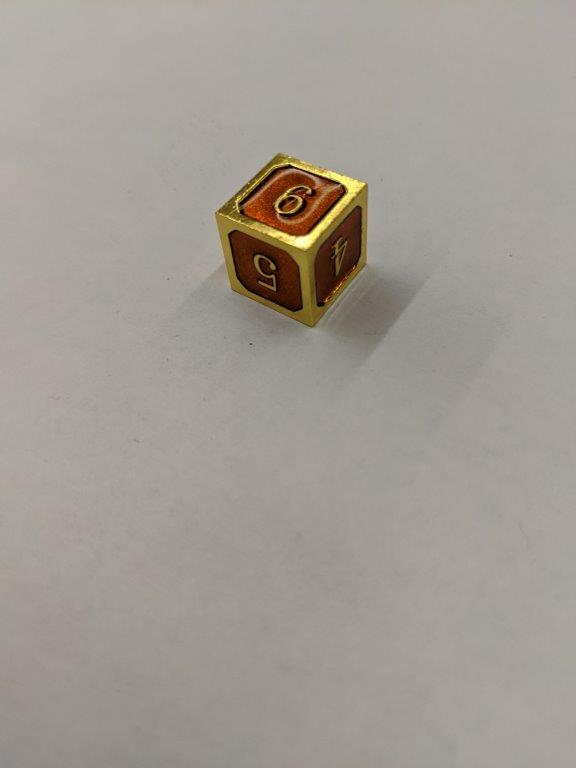d6-6: (215, 150, 368, 330)
